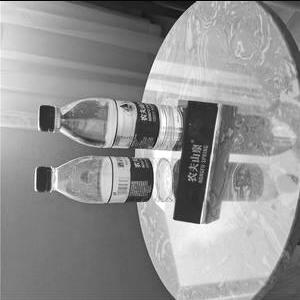bottle: (32, 92, 220, 154), (30, 153, 200, 209)
